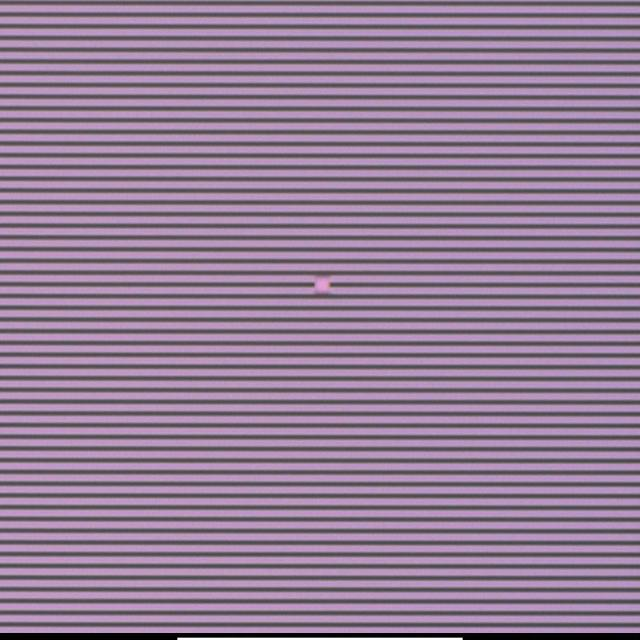03_intrusion: (313, 270, 333, 299)
